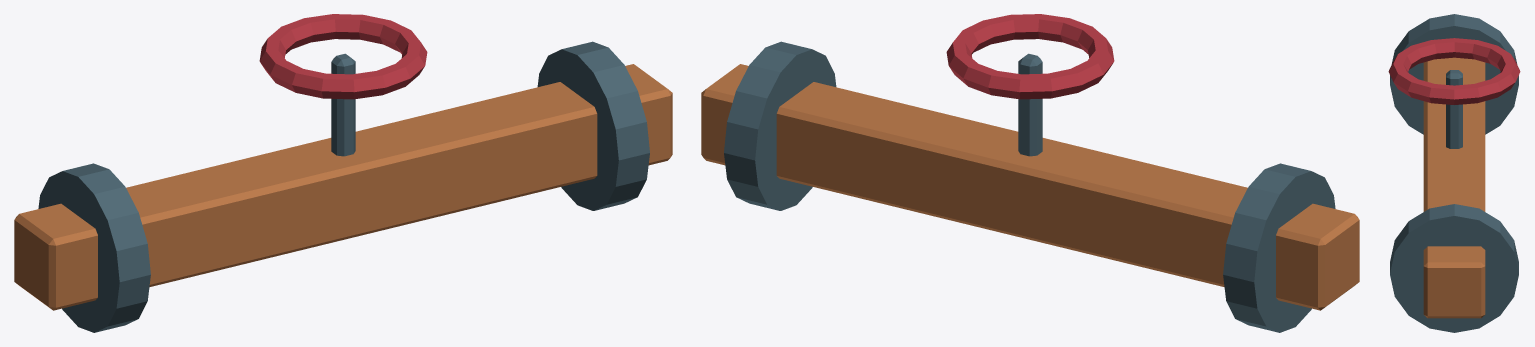
File: valve-pipe.glb
3 renders of one model, left to right at view 1: azimuth 30°, elevation 25°; view 2: azimuth 150°, elevation 25°; view 3: azimuth 270°, elevation 25°, orthographic. The views are drawn at different scales.
Parts seen in each view (by area): view 1: pipe, flange.001, flange, valve-wheel, valve-stem; view 2: pipe, flange.001, flange, valve-wheel, valve-stem; view 3: pipe, flange.001, valve-wheel, flange, valve-stem.
Boxes of the visible parts, x1,y1,x2,y2 form: pipe: (14,64,672,310); flange.001: (537,41,649,210); flange: (38,163,150,332); valve-wheel: (259,14,427,99); valve-stem: (331,53,355,156); pipe: (701,64,1359,310); flange.001: (724,41,836,210); flange: (1223,163,1335,332); valve-wheel: (946,14,1114,99); valve-stem: (1018,53,1042,156); pipe: (1423,57,1485,318); flange.001: (1390,204,1518,332); valve-wheel: (1388,38,1520,104); flange: (1390,14,1518,134); valve-stem: (1446,70,1462,148).
Size of the model in its own units: 2 by 0.6603 by 0.47.
